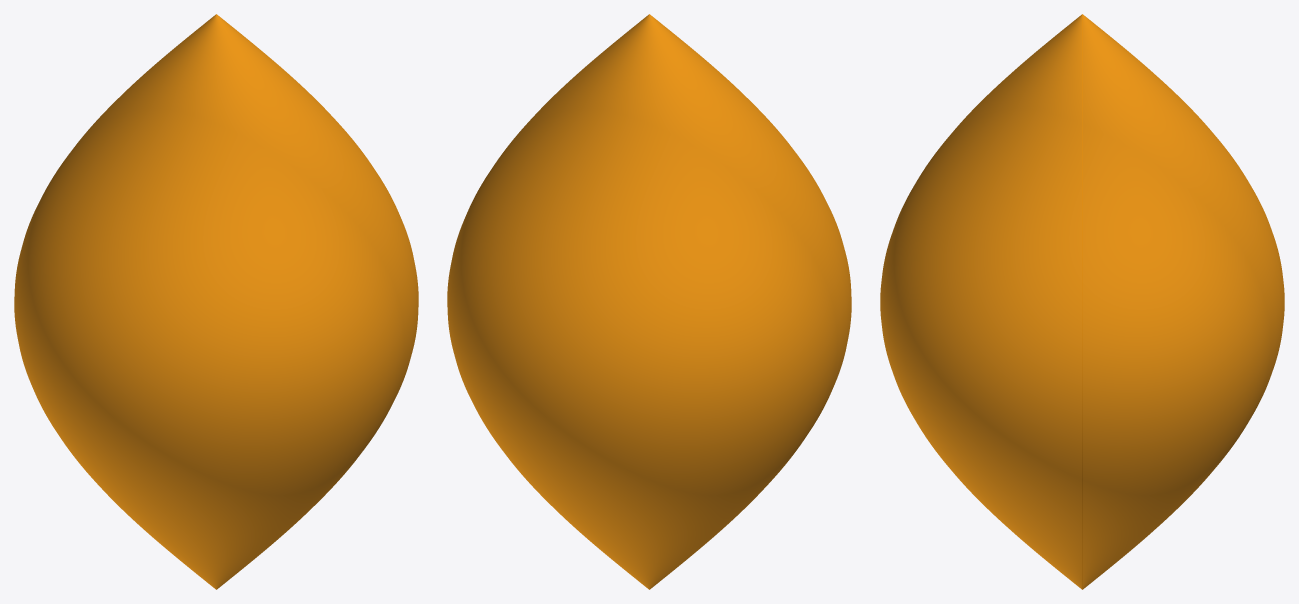
Rendered from solid-of-revolution-sinx.glb.
3 renders of one model, left to right at view 1: azimuth 30°, elevation 25°; view 2: azimuth 150°, elevation 25°; view 3: azimuth 270°, elevation 25°, orthographic.
Bounding box in the file's own units: 1.2 × 1.88 × 1.2.
